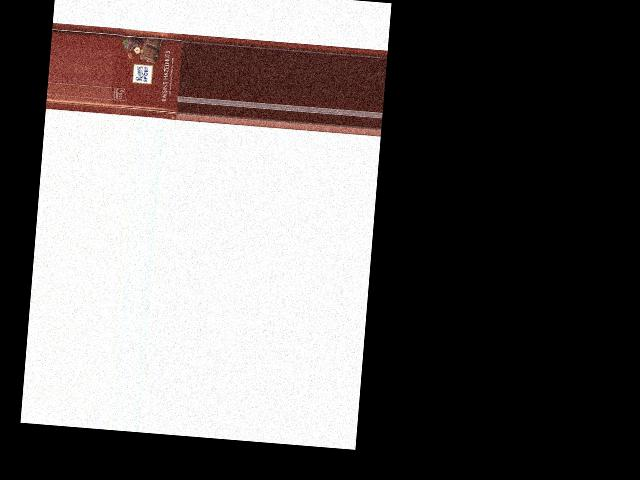chocolate: (109, 26, 184, 120)
